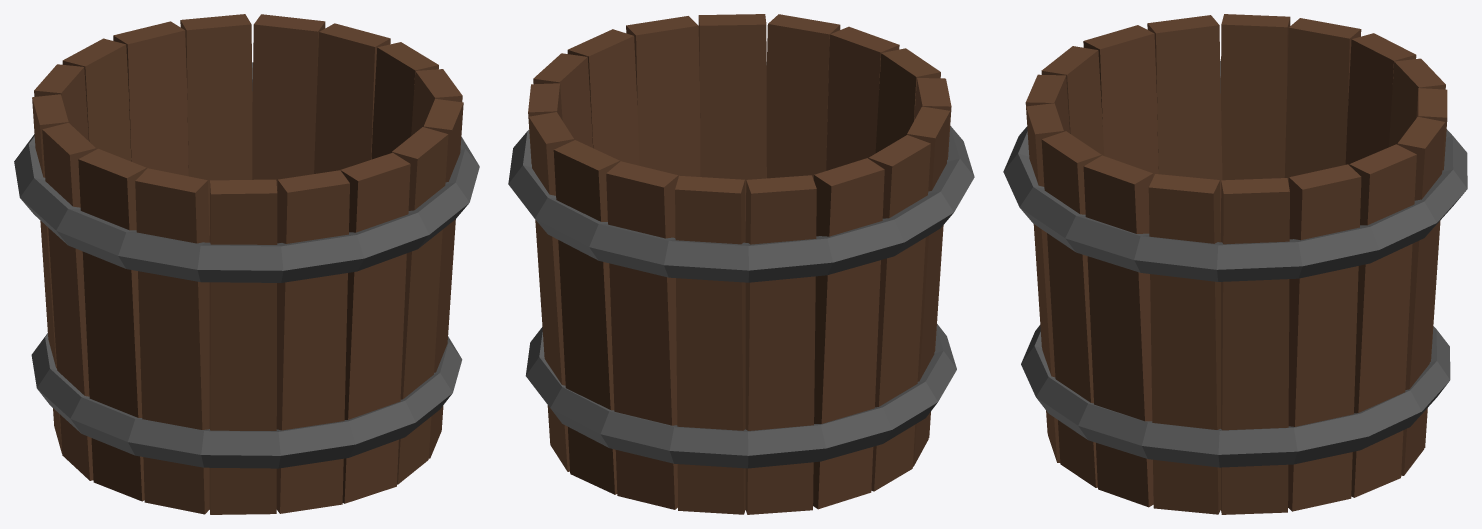
File: Bucket.fbx
The picture shows the model from 3 angles, left to right: view 1: azimuth 30°, elevation 25°; view 2: azimuth 150°, elevation 25°; view 3: azimuth 270°, elevation 25°; orthographic projection.
Parts seen in each view (by area): view 1: Torus.001, Cube.011, Cube.005, Cube.010, Torus.002, Cube.017, Cube.012, Cube.007, Cube.008, Cube.004, Cube.013, Cube.006 (+7 smaller); view 2: Torus.001, Cube.015, Cube.016, Torus.002, Cube.006, Cube.014, Cube.007, Cube.013, Cube.004, Cube.017, Cube.003, Cube.005 (+7 smaller); view 3: Torus.001, Cube.002, Cube.001, Cube.009, Torus.002, Cube.003, Cube.008, Cube.013, Cube.004, Cube.012, Cube.014, Cube.011 (+7 smaller).
Part boxes in pixels (bbox=[...]): Torus.001: bbox=[14, 62, 479, 282]; Cube.011: bbox=[135, 168, 209, 514]; Cube.005: bbox=[276, 170, 349, 513]; Cube.010: bbox=[209, 179, 277, 514]; Torus.002: bbox=[31, 333, 462, 468]; Cube.017: bbox=[340, 152, 410, 503]; Cube.012: bbox=[78, 148, 146, 501]; Cube.007: bbox=[180, 14, 252, 238]; Cube.008: bbox=[252, 14, 325, 190]; Cube.004: bbox=[392, 127, 448, 484]; Cube.013: bbox=[42, 122, 96, 480]; Cube.006: bbox=[113, 21, 188, 176]; Torus.001: bbox=[508, 62, 974, 282]; Cube.015: bbox=[745, 175, 816, 514]; Cube.016: bbox=[675, 175, 745, 514]; Torus.002: bbox=[525, 324, 956, 468]; Cube.006: bbox=[606, 161, 678, 509]; Cube.014: bbox=[813, 158, 884, 509]; Cube.007: bbox=[553, 140, 619, 494]; Cube.013: bbox=[868, 135, 930, 491]; Cube.004: bbox=[698, 14, 766, 228]; Cube.017: bbox=[766, 14, 840, 179]; Cube.003: bbox=[626, 16, 700, 177]; Cube.005: bbox=[826, 26, 899, 170]; Torus.001: bbox=[1003, 61, 1467, 281]; Cube.002: bbox=[1148, 174, 1220, 514]; Cube.001: bbox=[1221, 178, 1289, 514]; Cube.009: bbox=[1288, 164, 1361, 511]; Torus.002: bbox=[1021, 325, 1450, 467]; Cube.003: bbox=[1083, 155, 1153, 507]; Cube.008: bbox=[1349, 144, 1416, 497]; Cube.013: bbox=[1221, 14, 1290, 180]; Cube.004: bbox=[1041, 131, 1101, 487]; Cube.012: bbox=[1147, 15, 1222, 232]; Cube.014: bbox=[1284, 18, 1361, 184]; Cube.011: bbox=[1083, 25, 1158, 176].
Size of the model in its own units: 65.72 by 51.62 by 65.47.
